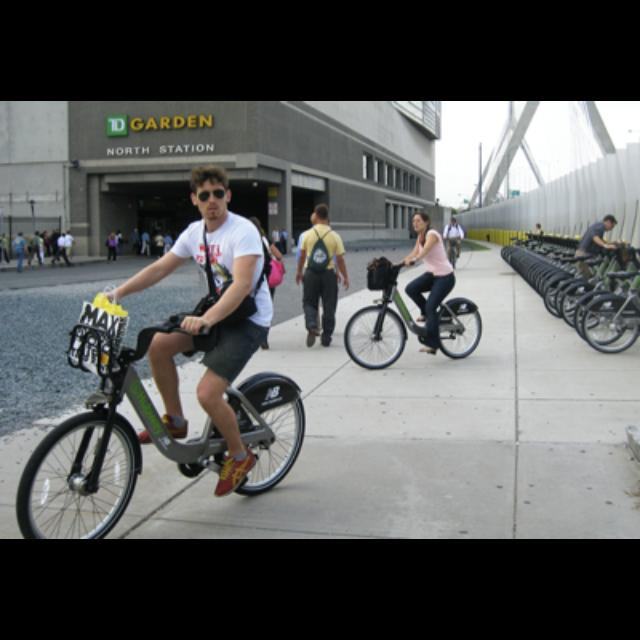Without Helmet: (180, 160, 233, 224), (405, 207, 435, 236)
